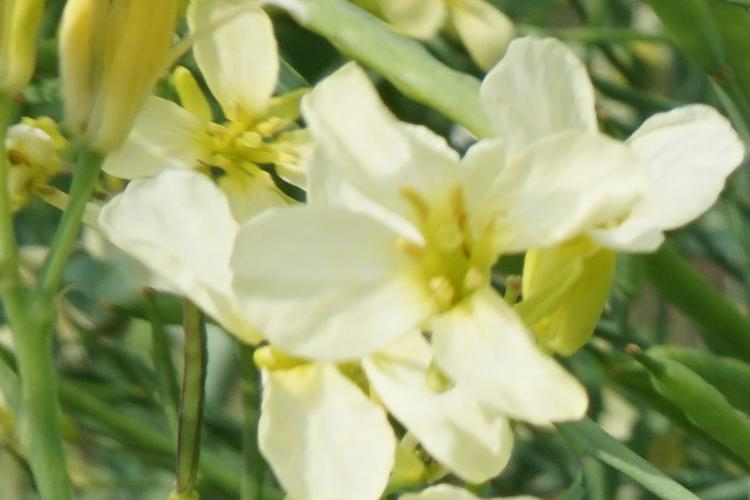white: (109, 207, 525, 471), (271, 74, 596, 394), (111, 40, 380, 213), (468, 57, 708, 230)
